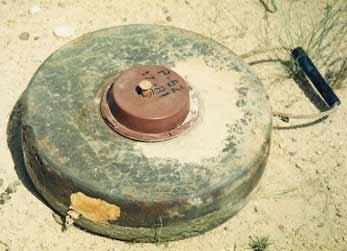TM 62: (22, 23, 273, 244)
